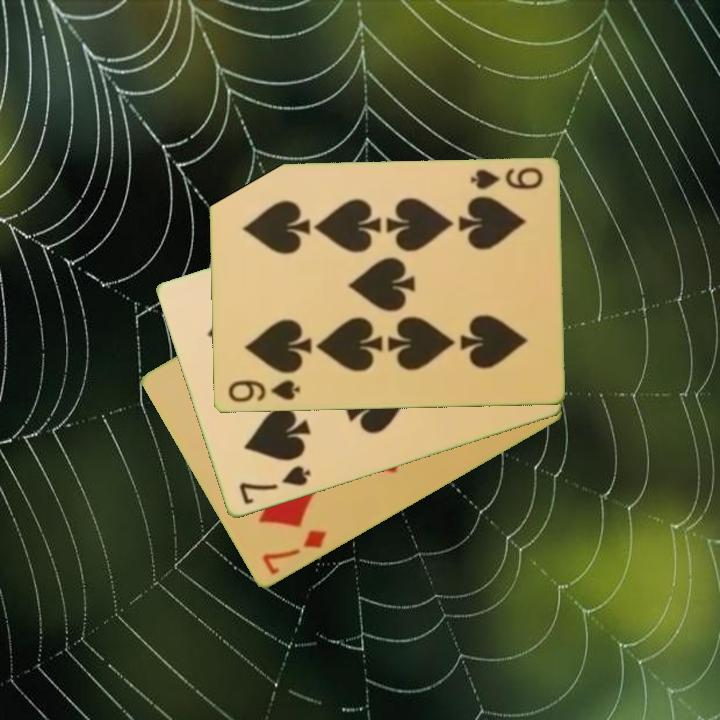7d: (258, 526, 330, 578)
7s: (235, 462, 314, 508)
9s: (466, 164, 545, 193), (224, 377, 303, 405)
